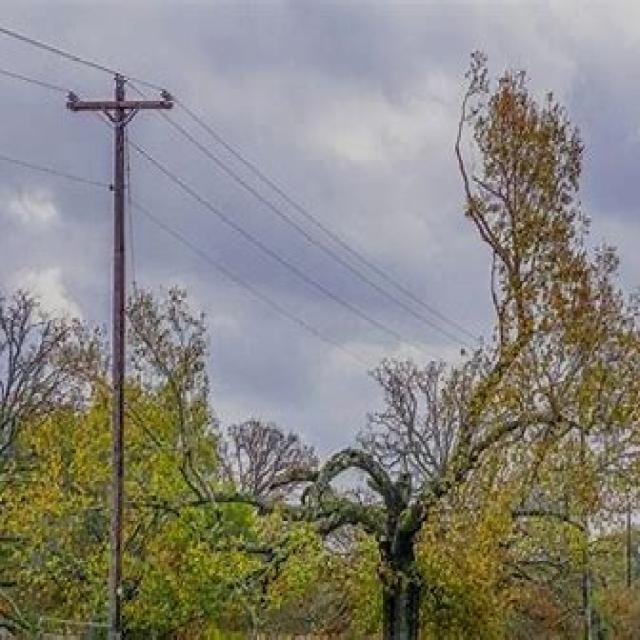utility poles: (68, 39, 164, 630)
